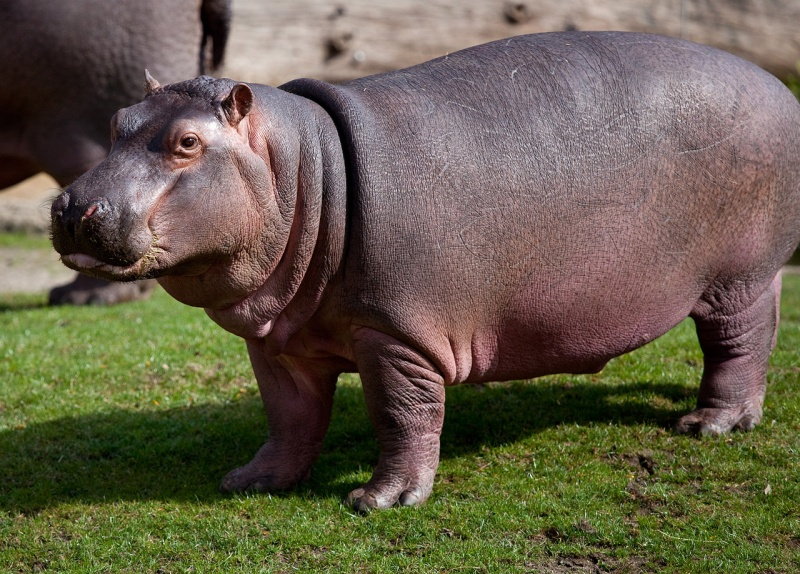hipopotamo: (47, 23, 800, 517)
